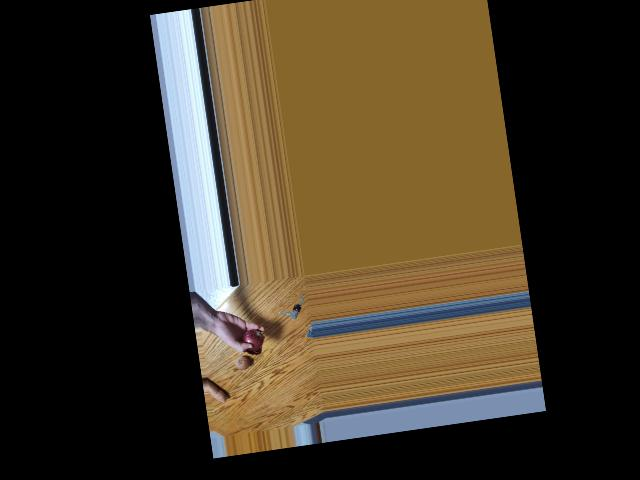onion: (231, 351, 250, 370)
